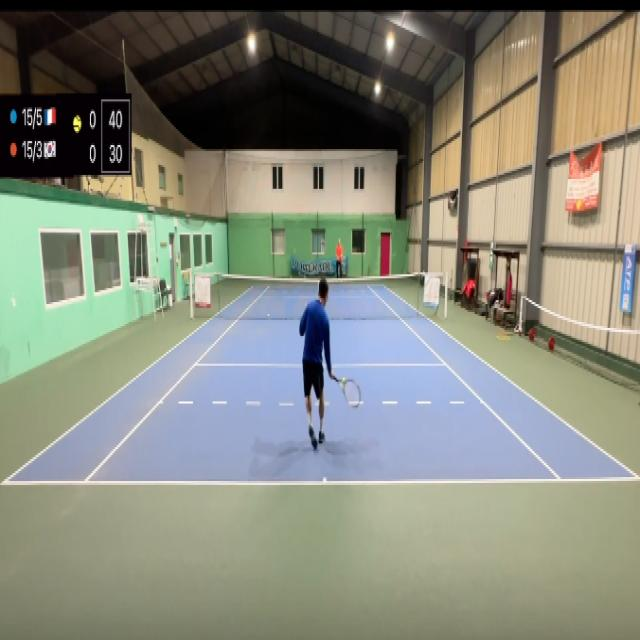ball: (342, 376, 347, 386)
